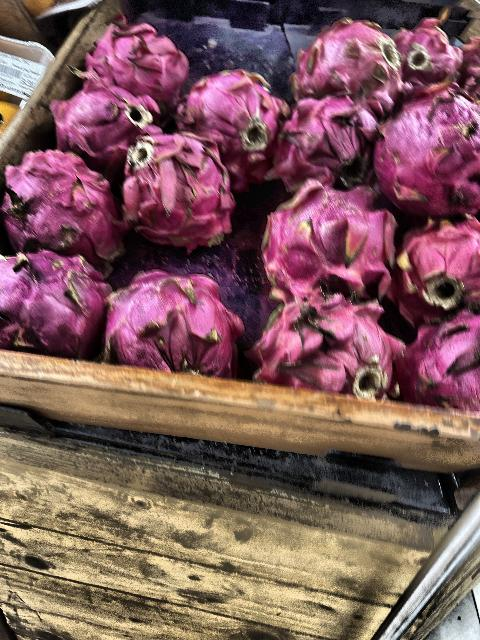buah-naga-matang: (260, 170, 402, 306), (246, 262, 386, 396), (4, 143, 130, 271), (103, 268, 237, 384), (115, 136, 235, 252), (366, 96, 480, 216), (368, 205, 480, 318), (294, 9, 400, 123), (269, 85, 387, 187), (6, 249, 106, 363), (172, 73, 276, 173), (396, 306, 478, 426), (98, 15, 184, 114), (57, 87, 160, 165)
